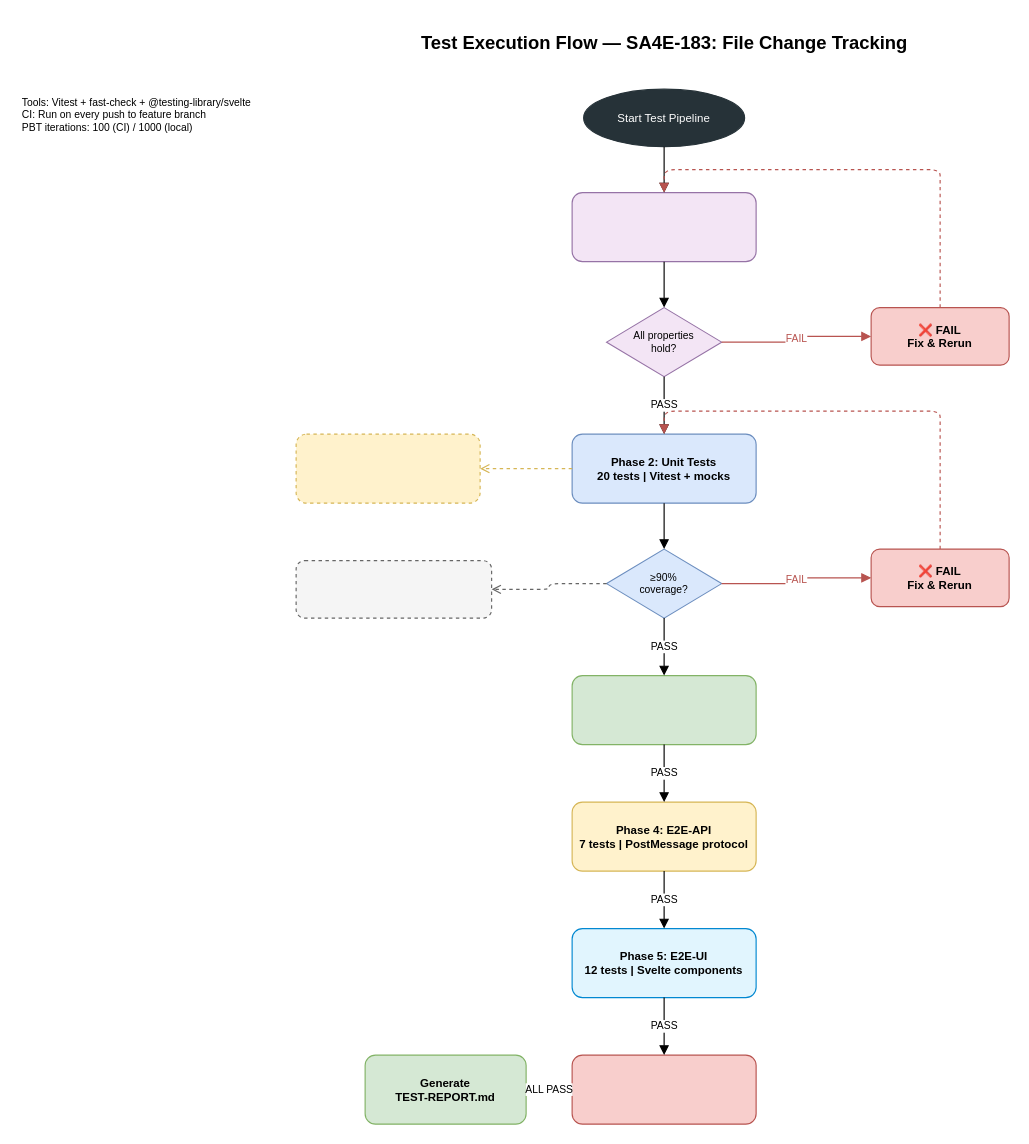
This 1029x1144 diagram has some shape labels left out. The shapes that lost their labels are listed below. From the top down, each one's centre as x and y in pixels, then its label:
the point at 663,226: Phase 1: PBT (Property-Based) 7 tests | fast-check
the point at 387,468: Security Tests (STC-45→54) Run parallel with UT
the point at 393,588: Coverage Report Target: ≥90% DiffTracker ≥85% overall new code
the point at 663,709: Phase 3: Integration Tests 8 tests | Real instances
the point at 663,1089: Phase 6: SIT 6 tests | Full feature flow
